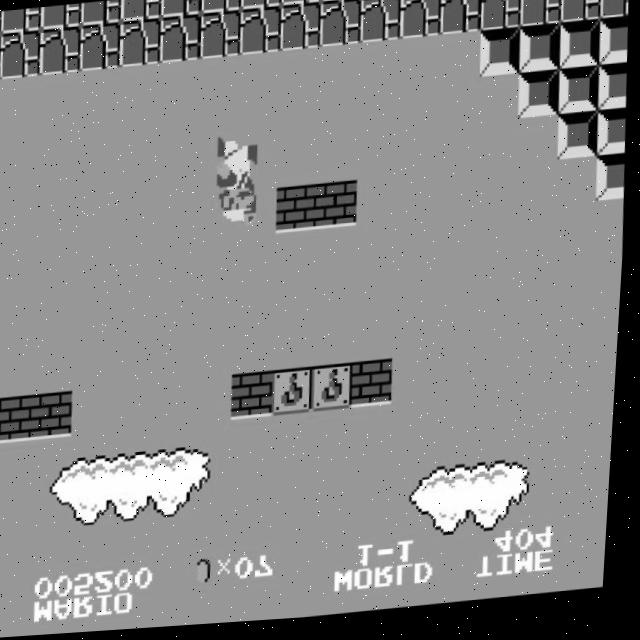1- brick_block: (234, 374, 279, 423), (276, 188, 321, 237), (316, 185, 361, 234), (34, 392, 79, 440), (354, 364, 399, 412), (0, 395, 39, 444)
13- mystery_block: (274, 371, 319, 419), (314, 368, 359, 416)
17- undestructible_block: (318, 2, 364, 51), (118, 19, 163, 69), (278, 5, 323, 55), (358, 0, 404, 48), (38, 27, 83, 76), (78, 23, 123, 72), (158, 16, 203, 65), (198, 12, 243, 61), (238, 9, 283, 58), (0, 30, 43, 79), (398, 0, 444, 44), (439, 0, 484, 41), (479, 0, 524, 37), (519, 0, 564, 34), (559, 0, 604, 30), (39, 4, 83, 30), (0, 7, 43, 33), (80, 1, 123, 27), (120, 0, 163, 23), (598, 0, 630, 27), (160, 0, 203, 20), (200, 0, 243, 16), (240, 0, 283, 13), (279, 0, 322, 9), (319, 0, 362, 5), (0, 33, 2, 79), (359, 0, 402, 2), (0, 11, 2, 34)
4- fire_mario: (212, 137, 262, 234)
9- hard_block: (517, 76, 563, 125), (557, 72, 603, 121), (518, 30, 563, 80), (478, 34, 523, 83), (558, 27, 603, 76), (557, 119, 602, 167), (596, 161, 628, 210), (598, 24, 630, 73), (597, 116, 629, 164), (598, 70, 630, 118)
